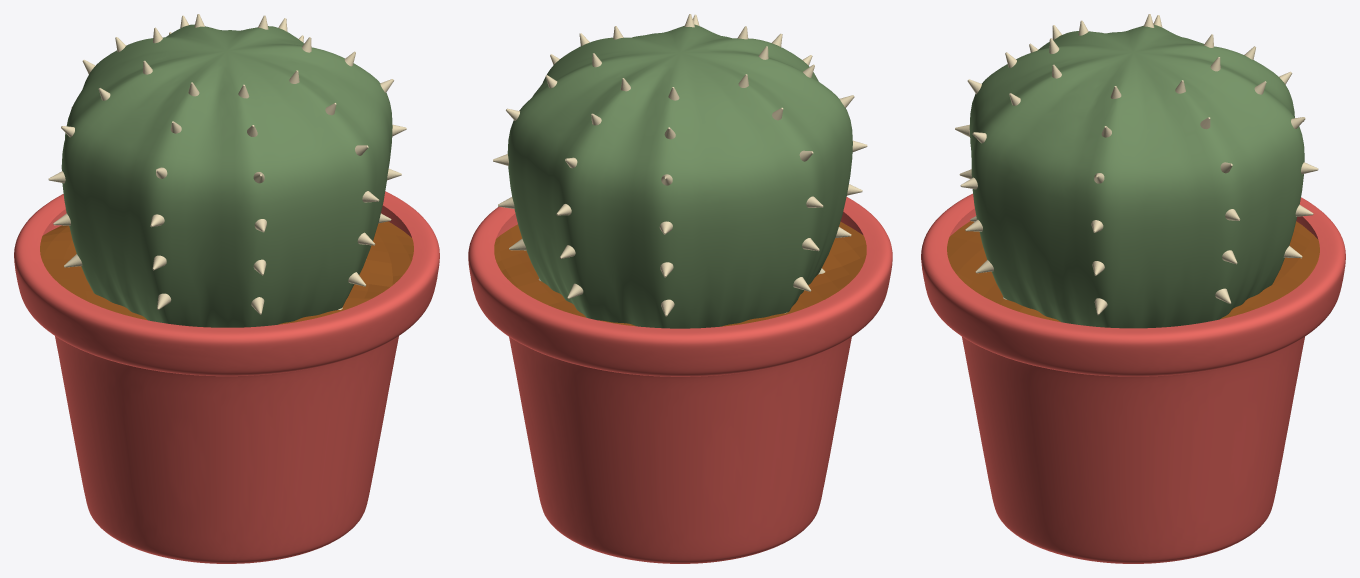
The picture shows the model from 3 angles, left to right: view 1: azimuth 30°, elevation 25°; view 2: azimuth 150°, elevation 25°; view 3: azimuth 270°, elevation 25°; orthographic projection.
Visible parts, largest first — view 1: cactus, pot, ground, Cylinder.007, Cylinder.004, Cylinder.005, Cylinder.009, Cylinder.017; view 2: cactus, pot, ground, Cylinder.009, Cylinder.011, Cylinder.013, Cylinder.015, Cylinder.007; view 3: cactus, pot, ground, Cylinder.004, Cylinder.015, Cylinder.013, Cylinder.017, Cylinder.005.
Part boxes in pixels (bbox=[...]): cactus: bbox=[61, 24, 392, 327]; pot: bbox=[14, 191, 439, 563]; ground: bbox=[40, 221, 413, 324]; Cylinder.007: bbox=[150, 82, 199, 309]; Cylinder.004: bbox=[289, 70, 379, 309]; Cylinder.005: bbox=[238, 84, 266, 314]; Cylinder.009: bbox=[48, 60, 152, 267]; Cylinder.017: bbox=[302, 37, 406, 223]; cactus: bbox=[507, 24, 852, 328]; pot: bbox=[468, 197, 892, 563]; ground: bbox=[494, 221, 866, 326]; Cylinder.009: bbox=[738, 74, 823, 313]; Cylinder.011: bbox=[659, 87, 679, 316]; Cylinder.013: bbox=[556, 78, 630, 299]; Cylinder.015: bbox=[493, 53, 601, 280]; Cylinder.007: bbox=[758, 46, 867, 274]; cactus: bbox=[969, 24, 1304, 328]; pot: bbox=[921, 193, 1345, 563]; ground: bbox=[947, 221, 1319, 321]; Cylinder.004: bbox=[960, 64, 1061, 299]; Cylinder.015: bbox=[1175, 80, 1240, 303]; Cylinder.013: bbox=[1210, 57, 1318, 258]; Cylinder.017: bbox=[1091, 86, 1121, 315]; Cylinder.005: bbox=[955, 38, 1059, 221].
Size of the model in its own units: 1.58 by 1.88 by 1.58.
